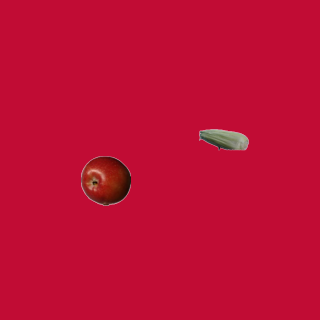Apple Braeburn: (80, 155, 130, 205)
Corn Husk: (198, 114, 248, 164)
